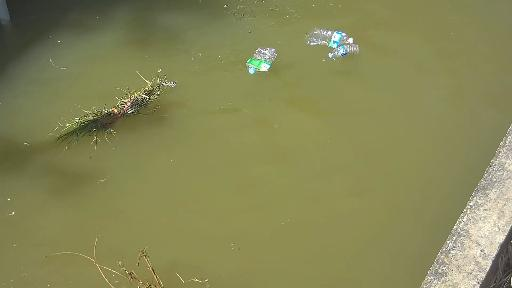plastic: (227, 46, 285, 77), (312, 29, 361, 46), (332, 43, 370, 58)
twig: (34, 62, 177, 162), (50, 231, 235, 288)
